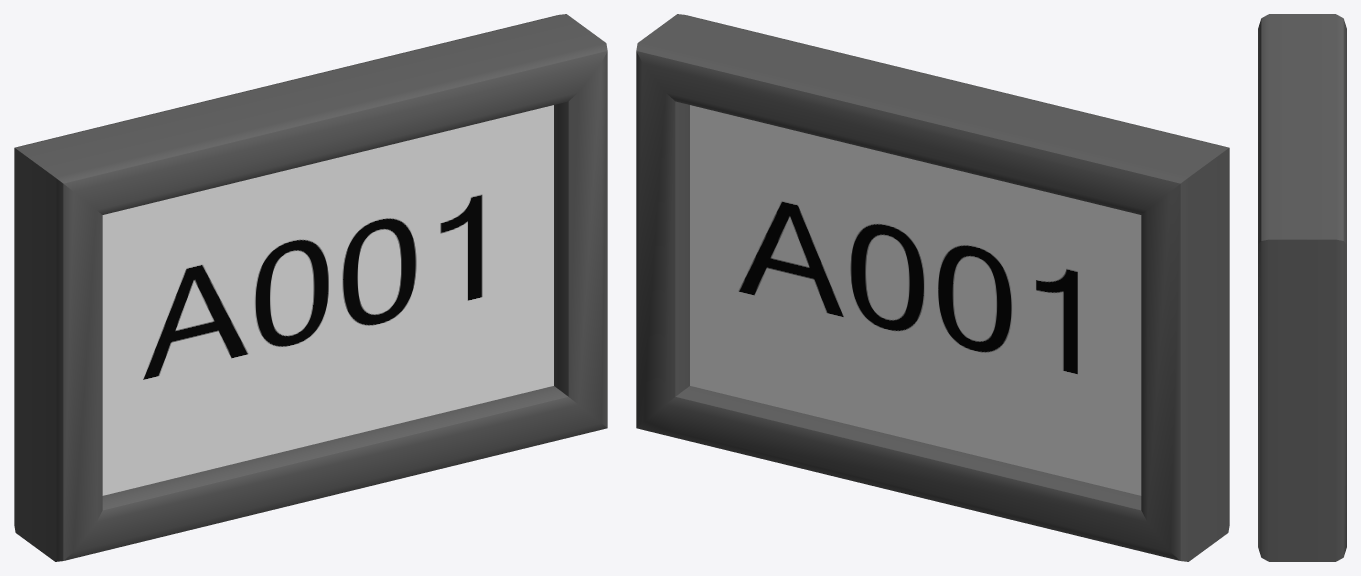
The model's file is nummer_test_03.fbx.
The picture shows the model from 3 angles, left to right: view 1: azimuth 30°, elevation 25°; view 2: azimuth 150°, elevation 25°; view 3: azimuth 270°, elevation 25°; orthographic projection. The views are drawn at different scales.
Visible parts, largest first — view 1: A, polySurface179; view 2: A2, polySurface179; view 3: polySurface179.
Boxes of the visible parts, left/top/right/bottom form: A: left=102, top=105, right=553, bottom=495; polySurface179: left=14, top=14, right=607, bottom=561; A2: left=690, top=105, right=1141, bottom=495; polySurface179: left=636, top=14, right=1229, bottom=561; polySurface179: left=1258, top=14, right=1346, bottom=561.
Size of the model in its own units: 31.51 by 21 by 5.25.
2 materials, 1 textured.
